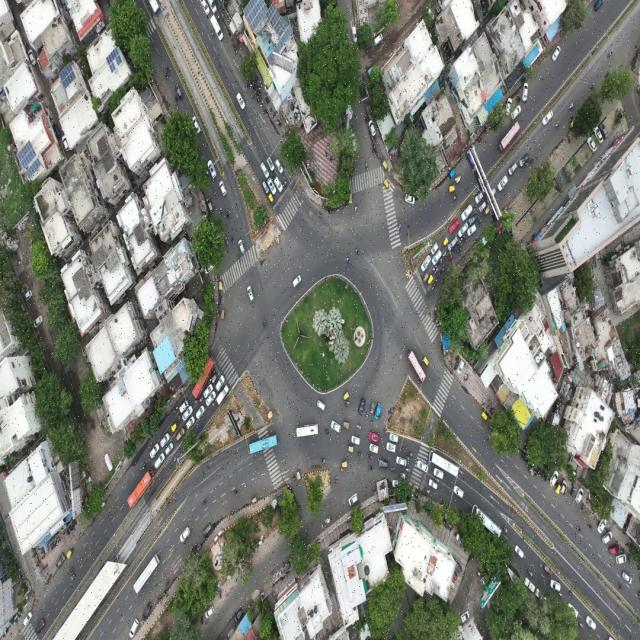3W: (217, 304, 227, 322), (554, 478, 563, 497), (267, 188, 275, 207), (64, 545, 74, 560), (449, 164, 458, 180), (217, 275, 224, 295), (425, 274, 435, 288), (421, 354, 431, 368), (478, 408, 488, 422), (295, 467, 304, 482), (569, 116, 578, 131), (381, 156, 389, 172), (346, 442, 356, 454), (171, 420, 179, 434), (421, 272, 429, 286), (447, 183, 457, 194), (249, 494, 258, 506), (340, 457, 349, 469), (210, 372, 218, 385), (383, 178, 390, 191), (342, 420, 351, 430), (442, 237, 449, 248), (484, 206, 490, 218), (343, 392, 350, 402)
Bus: (469, 498, 505, 544), (130, 549, 162, 595), (190, 352, 218, 402), (425, 446, 462, 482), (126, 466, 156, 508), (496, 120, 522, 153), (244, 434, 280, 457), (407, 347, 427, 387), (292, 418, 321, 440)
Cars: (142, 598, 154, 624), (191, 113, 203, 139), (34, 614, 47, 637), (550, 41, 563, 64), (20, 606, 33, 628), (585, 134, 598, 156), (618, 570, 634, 587), (541, 560, 556, 578), (128, 616, 140, 638), (586, 612, 598, 634), (350, 129, 360, 155), (541, 107, 554, 127), (518, 151, 531, 171), (206, 156, 217, 179), (346, 489, 360, 507), (601, 528, 614, 547), (599, 119, 610, 141), (233, 602, 243, 626), (236, 91, 246, 115), (264, 154, 276, 174), (460, 202, 472, 222), (448, 215, 460, 235), (414, 459, 430, 474), (592, 126, 605, 144), (329, 418, 342, 436), (154, 450, 165, 471), (174, 81, 185, 102), (180, 522, 190, 545), (159, 430, 171, 449), (548, 468, 560, 487), (54, 553, 68, 569), (403, 192, 417, 208), (607, 542, 621, 558), (614, 552, 628, 568), (367, 429, 380, 446), (357, 78, 367, 100), (507, 158, 518, 178), (497, 172, 508, 192), (597, 514, 607, 536), (373, 401, 383, 423), (513, 543, 525, 561), (237, 235, 247, 256), (357, 396, 367, 417), (374, 456, 389, 470), (195, 403, 206, 422), (202, 380, 213, 399), (205, 389, 216, 408), (511, 104, 524, 120), (433, 466, 446, 482), (246, 283, 255, 306), (504, 95, 513, 118), (202, 519, 212, 539), (215, 372, 225, 392), (260, 160, 270, 180), (367, 118, 377, 138), (268, 177, 277, 199), (291, 272, 302, 290), (349, 23, 358, 45), (394, 455, 408, 469), (314, 398, 327, 413), (148, 442, 160, 458), (372, 32, 384, 48), (432, 250, 444, 266), (205, 601, 215, 620), (275, 155, 285, 174), (421, 254, 431, 273), (520, 81, 529, 102), (456, 355, 465, 376), (200, 0, 211, 17), (549, 577, 562, 591), (367, 442, 380, 456), (274, 176, 283, 196), (559, 476, 568, 496), (453, 484, 465, 499), (448, 236, 459, 252), (219, 180, 228, 199), (592, 0, 606, 12), (388, 432, 400, 446), (349, 435, 363, 447), (176, 426, 185, 444), (185, 414, 195, 430), (474, 188, 484, 204), (385, 441, 397, 454), (262, 178, 270, 197), (207, 0, 217, 15), (458, 222, 468, 237), (429, 244, 441, 256), (427, 478, 439, 490), (166, 441, 174, 458), (183, 406, 192, 421), (574, 488, 583, 503), (467, 224, 478, 236), (468, 213, 478, 226), (478, 204, 487, 214)
LCV: (210, 11, 227, 43), (216, 382, 230, 406), (522, 576, 536, 594), (179, 400, 190, 415)
M2W: (318, 454, 329, 466), (200, 494, 208, 507), (332, 471, 339, 485), (140, 460, 148, 472), (322, 426, 330, 438), (260, 318, 269, 328), (353, 246, 362, 256), (607, 48, 614, 60), (353, 105, 358, 121), (502, 525, 510, 535), (219, 206, 225, 219), (162, 67, 168, 80), (569, 98, 575, 111), (353, 200, 359, 212), (526, 568, 534, 577), (31, 549, 38, 559), (345, 255, 352, 265), (567, 588, 574, 598), (230, 235, 236, 246), (558, 590, 564, 601), (344, 397, 350, 408), (34, 559, 41, 568), (173, 405, 180, 414), (70, 572, 76, 582), (54, 536, 59, 548), (165, 578, 170, 590), (188, 545, 194, 555), (176, 412, 182, 422), (236, 254, 242, 264), (173, 94, 179, 104), (210, 29, 216, 39), (554, 120, 560, 130), (472, 204, 478, 214), (316, 211, 323, 219), (365, 159, 369, 173), (404, 466, 411, 474), (51, 539, 56, 550), (166, 64, 171, 75), (225, 210, 231, 219), (274, 116, 280, 125), (515, 89, 521, 98), (529, 156, 535, 165), (438, 257, 444, 266), (367, 451, 373, 460), (356, 422, 362, 431), (365, 410, 369, 423), (49, 542, 54, 552), (66, 528, 71, 538), (211, 368, 216, 378), (283, 178, 288, 188), (397, 223, 402, 233), (243, 82, 250, 89), (248, 93, 255, 100), (390, 466, 397, 473), (224, 235, 228, 247), (213, 187, 217, 199), (174, 104, 180, 112), (269, 170, 275, 178), (370, 149, 376, 157), (590, 82, 596, 90), (576, 525, 582, 533), (587, 523, 593, 531), (578, 621, 584, 629), (338, 467, 344, 475), (233, 488, 238, 497), (452, 244, 457, 253), (369, 418, 374, 427), (40, 555, 47, 561), (193, 398, 200, 404), (276, 122, 282, 129), (452, 195, 458, 202), (477, 218, 483, 225), (459, 234, 465, 241), (456, 239, 462, 246), (618, 584, 624, 591), (424, 487, 430, 494), (408, 449, 414, 456), (356, 452, 363, 458), (58, 536, 62, 546), (68, 524, 72, 534), (72, 521, 76, 531), (208, 376, 212, 386), (292, 474, 296, 484), (206, 167, 210, 177), (480, 136, 485, 144), (568, 114, 573, 122), (442, 250, 447, 258), (432, 264, 437, 272), (434, 267, 439, 275), (405, 454, 410, 462), (233, 49, 239, 55), (249, 82, 255, 88), (477, 137, 481, 146), (464, 235, 468, 244), (425, 292, 431, 298), (544, 473, 548, 482), (620, 548, 626, 554), (401, 447, 407, 453), (199, 396, 204, 403), (448, 255, 453, 262), (434, 476, 439, 483), (271, 111, 275, 119), (442, 256, 446, 264), (434, 278, 438, 286), (158, 593, 161, 603), (265, 99, 270, 105), (446, 252, 451, 258), (441, 267, 446, 273), (436, 272, 441, 278), (523, 453, 526, 463), (538, 468, 541, 478), (625, 542, 630, 548), (368, 466, 373, 472), (260, 100, 264, 107), (264, 96, 268, 103), (282, 183, 286, 190), (431, 284, 435, 291), (259, 81, 262, 90), (265, 109, 268, 118), (441, 277, 444, 286), (436, 318, 439, 327), (542, 470, 545, 479), (458, 243, 463, 248), (457, 249, 462, 254), (253, 86, 257, 92), (262, 107, 266, 113), (269, 108, 273, 114), (535, 470, 539, 476), (581, 503, 584, 511), (257, 96, 260, 103), (532, 463, 535, 470), (517, 100, 522, 104), (252, 84, 256, 88), (525, 456, 527, 464), (256, 88, 258, 95), (522, 453, 524, 460), (629, 557, 631, 564)
